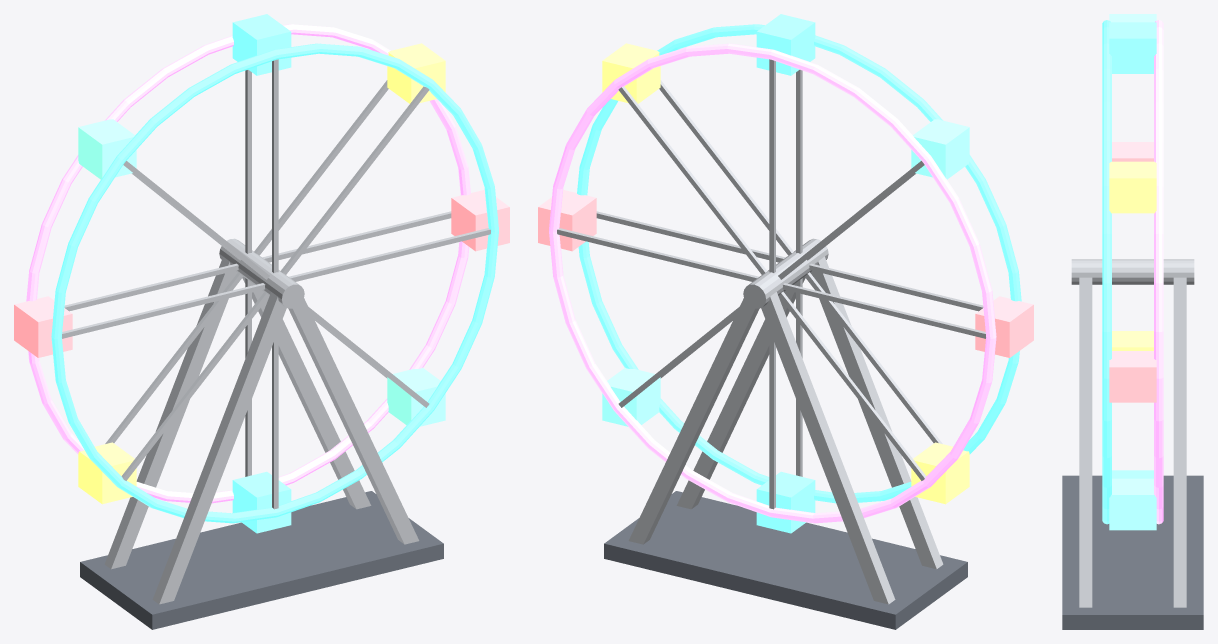
Rendered from ferris_wheel.glb.
3 renders of one model, left to right at view 1: azimuth 30°, elevation 25°; view 2: azimuth 150°, elevation 25°; view 3: azimuth 270°, elevation 25°, orthographic. The views are drawn at different scales.
Visible parts, largest first — view 1: BasePad, Torus, Torus.001, LegL_-2.0, LegL_2.0, LegR_-2.0, LegR_2.0, Gondola_3, Gondola_2, Gondola_4, Gondola_6, Gondola_0 (+18 smaller); view 2: BasePad, Torus.001, Torus, LegL_2.0, LegL_-2.0, LegR_2.0, LegR_-2.0, Gondola_3, Gondola_2, Gondola_4, Gondola_6, Gondola_0 (+18 smaller); view 3: BasePad, Torus, Torus.001, LegR_2.0, LegR_-2.0, Axle, Gondola_1, Gondola_0, Gondola_7, Gondola_2, Gondola_4, Gondola_5 (+2 smaller).
Part boxes in pixels (box(x1,y1,x2,y2)): BasePad: box(80, 491, 443, 629); Torus: box(51, 43, 498, 523); Torus.001: box(26, 24, 470, 503); LegL_-2.0: box(152, 292, 286, 604); LegL_2.0: box(104, 256, 237, 569); LegR_-2.0: box(288, 298, 419, 544); LegR_2.0: box(242, 277, 371, 509); Gondola_3: box(78, 119, 136, 179); Gondola_2: box(232, 14, 291, 75); Gondola_4: box(14, 296, 72, 357); Gondola_6: box(232, 471, 291, 533); Gondola_0: box(451, 190, 509, 251); BasePad: box(604, 491, 967, 629); Torus.001: box(549, 43, 996, 523); Torus: box(577, 24, 1021, 503); LegL_2.0: box(761, 292, 895, 604); LegL_-2.0: box(810, 256, 943, 569); LegR_2.0: box(628, 298, 759, 544); LegR_-2.0: box(676, 277, 805, 509); Gondola_3: box(911, 119, 969, 179); Gondola_2: box(756, 14, 815, 75); Gondola_4: box(975, 296, 1033, 357); Gondola_6: box(756, 471, 815, 533); Gondola_0: box(538, 190, 596, 251); BasePad: box(1062, 475, 1203, 629); Torus: box(1102, 20, 1111, 524); Torus.001: box(1154, 20, 1163, 524); LegR_2.0: box(1173, 277, 1186, 607); LegR_-2.0: box(1079, 277, 1092, 607); Axle: box(1071, 259, 1194, 284); Gondola_1: box(1109, 161, 1156, 213); Gondola_0: box(1109, 351, 1156, 402); Gondola_7: box(1109, 478, 1156, 530); Gondola_2: box(1109, 22, 1156, 73); Gondola_4: box(1112, 142, 1153, 161); Gondola_5: box(1112, 331, 1153, 350).
Bounding box in the file's own units: 22.65 × 24.83 × 6.
